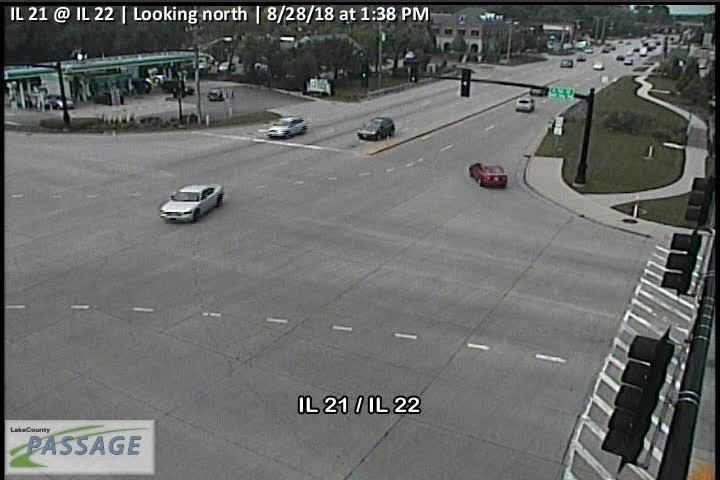SUV: (356, 116, 395, 141), (266, 116, 308, 138), (515, 97, 535, 112)
Sedan: (159, 183, 224, 223), (469, 161, 509, 188), (529, 85, 549, 96)
